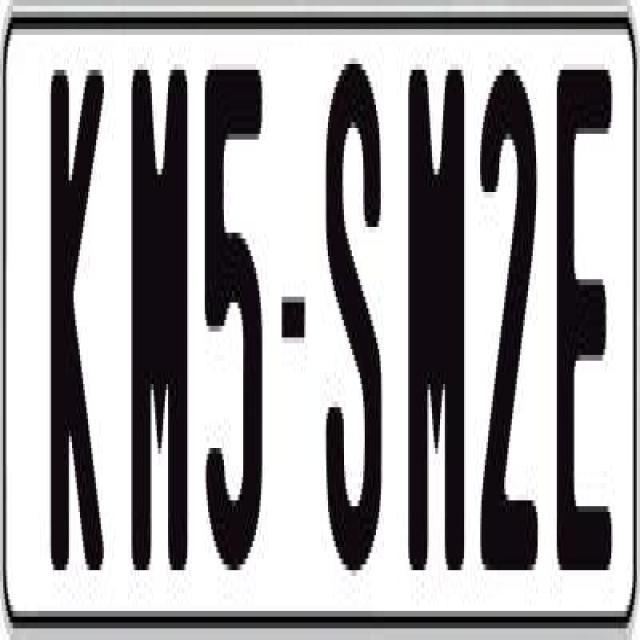2: (480, 64, 546, 588)
5: (203, 64, 270, 594)
E: (555, 64, 613, 594)
K: (46, 58, 101, 559)
M: (406, 58, 471, 564), (131, 64, 192, 594)
S: (324, 58, 388, 570)
